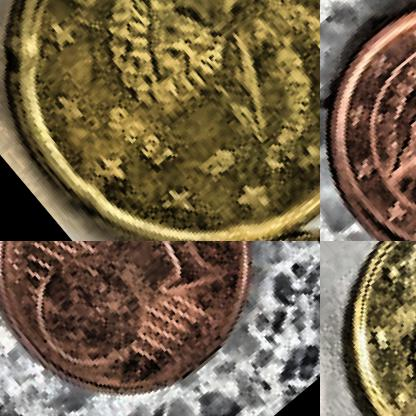coin: (0, 0, 319, 240), (0, 241, 312, 415), (320, 0, 415, 240), (320, 241, 415, 415)
